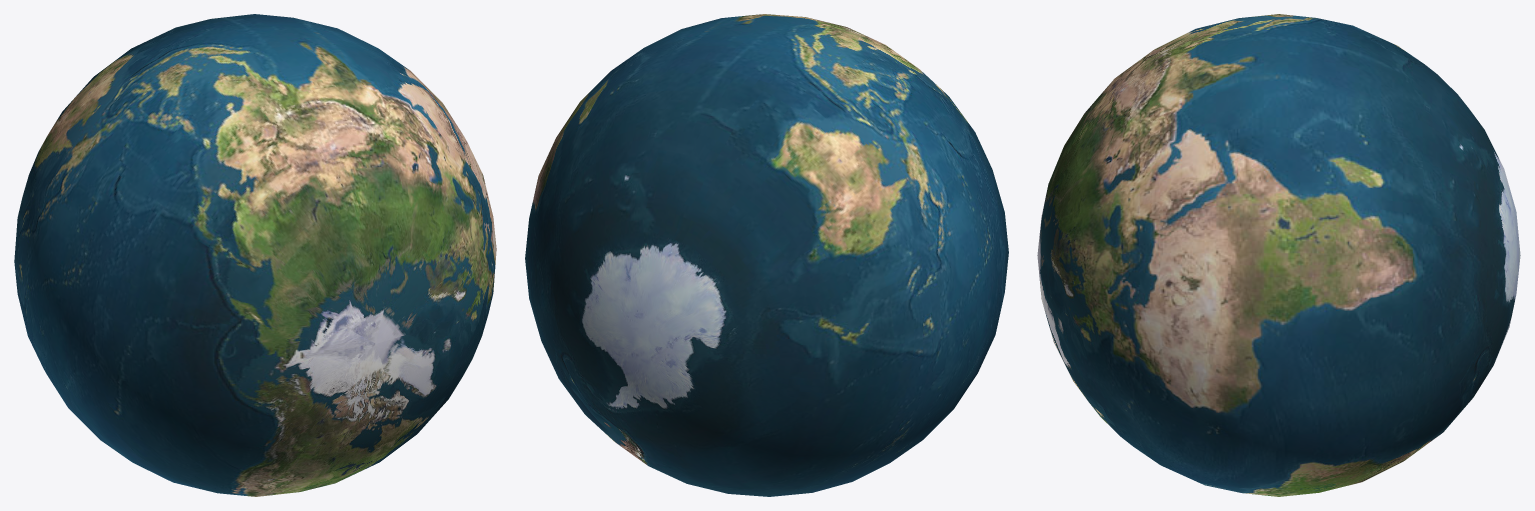
The model's file is earth.obj.
3 renders of one model, left to right at view 1: azimuth 30°, elevation 25°; view 2: azimuth 150°, elevation 25°; view 3: azimuth 270°, elevation 25°, orthographic.
Visible parts, largest first — view 1: GeoSphere01; view 2: GeoSphere01; view 3: GeoSphere01.
Part boxes in pixels (x1=…): GeoSphere01: x1=14, y1=14, x2=496, y2=496; GeoSphere01: x1=525, y1=14, x2=1008, y2=496; GeoSphere01: x1=1037, y1=14, x2=1520, y2=496.
Size of the model in its own units: 1.99 by 2 by 2.
1 material, 1 textured.
